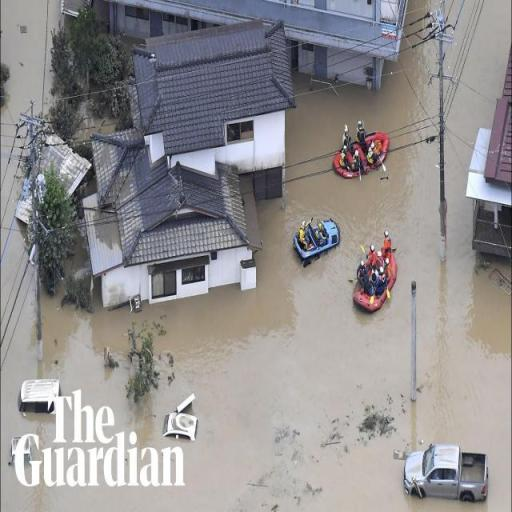flood: (1, 0, 512, 512)
house: (128, 7, 298, 183), (95, 147, 254, 309), (271, 0, 405, 91), (472, 48, 512, 261), (406, 440, 468, 502), (20, 376, 63, 418)
